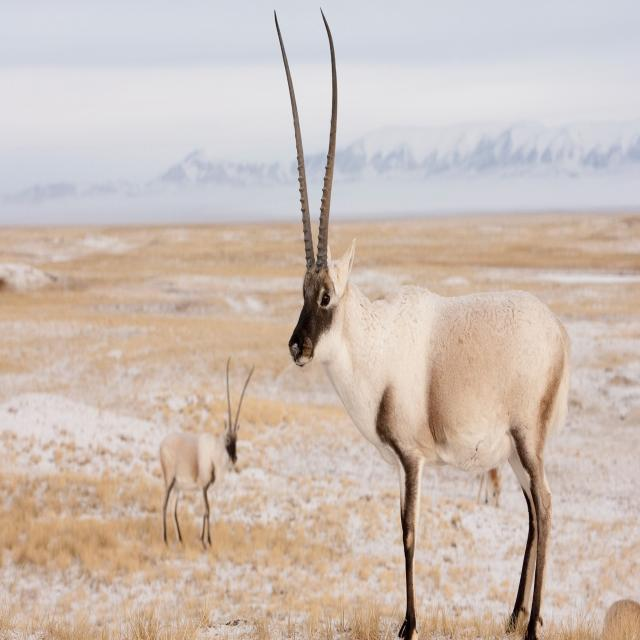Antelope: (275, 16, 569, 640), (159, 360, 255, 550)
